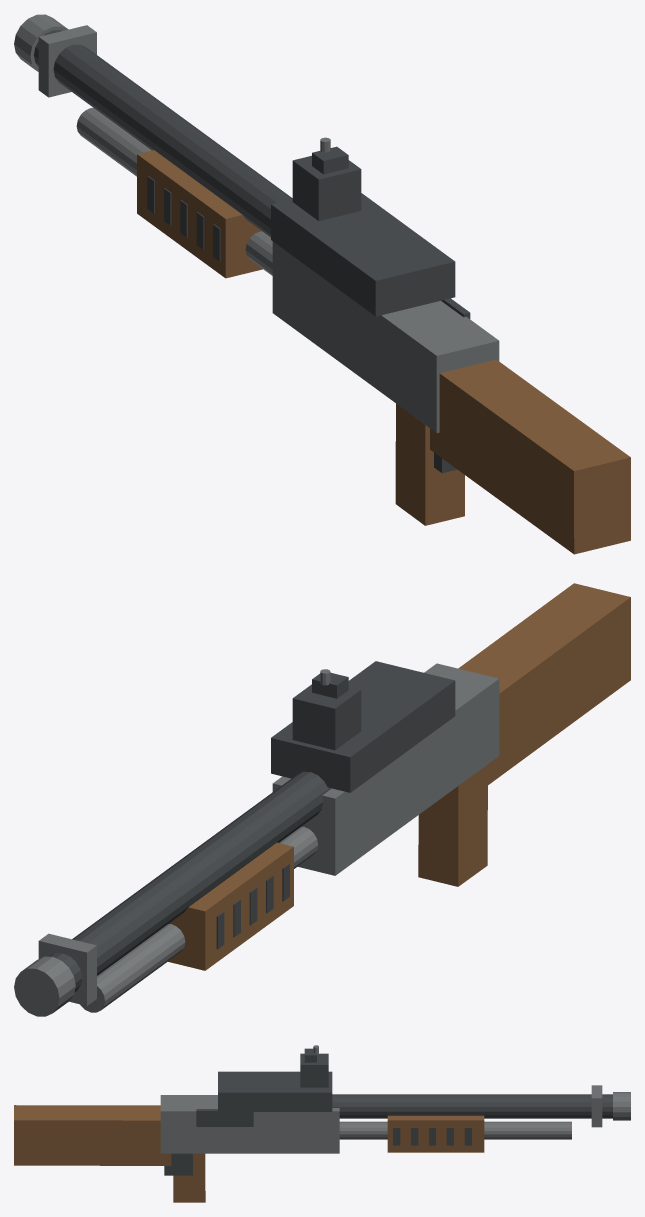
File: shotgun.glb
3 renders of one model, top to bottom at view 1: azimuth 30°, elevation 25°; view 2: azimuth 150°, elevation 25°; view 3: azimuth 270°, elevation 25°, orthographic. The views are drawn at different scales.
Visible parts, largest first — view 1: shotgun; view 2: shotgun; view 3: shotgun.
Part boxes in pixels (x1,y1,x2,y2): shotgun: [14, 14, 630, 554]; shotgun: [14, 583, 630, 1016]; shotgun: [14, 1045, 630, 1202].
Size of the model in its own units: 0.14 by 0.4752 by 1.73.
